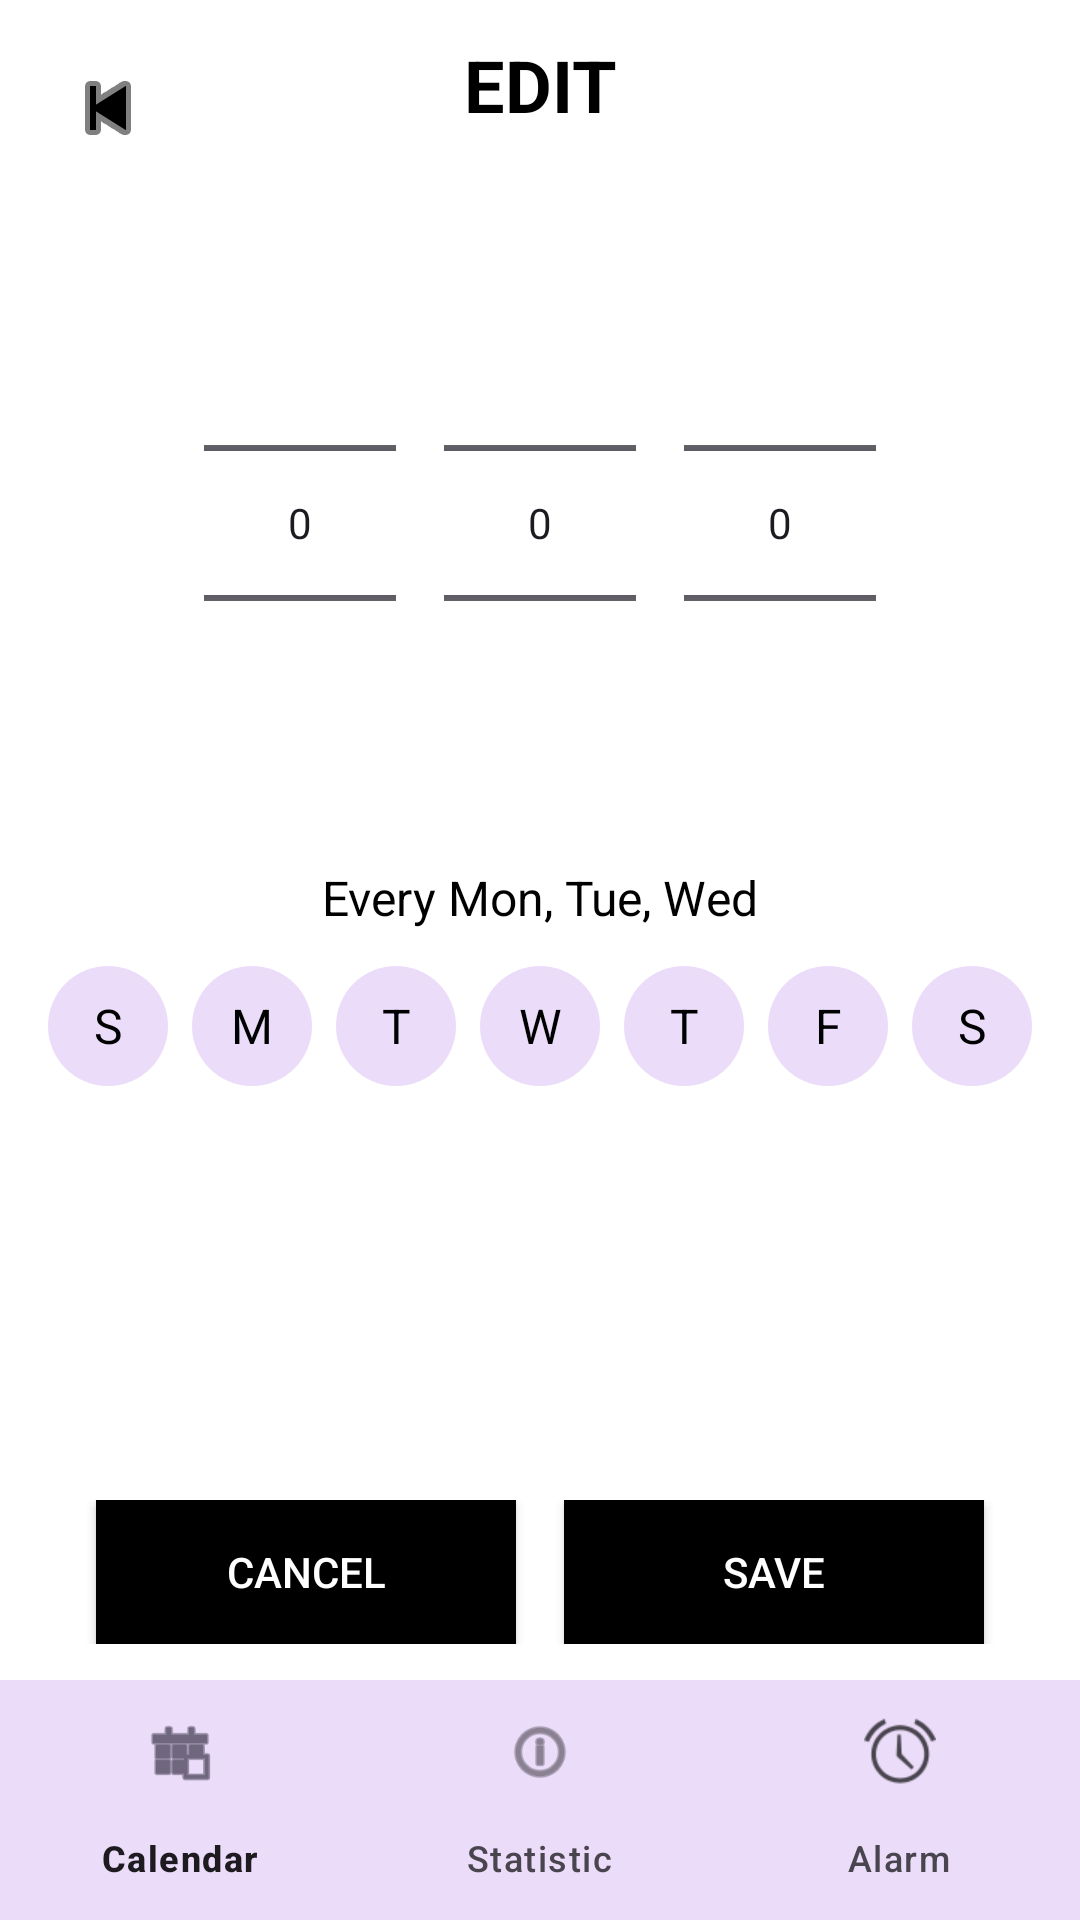

Where to tap for icons on this 1080×1920 app screen, as point (x, y):
Back: point (108, 108)
